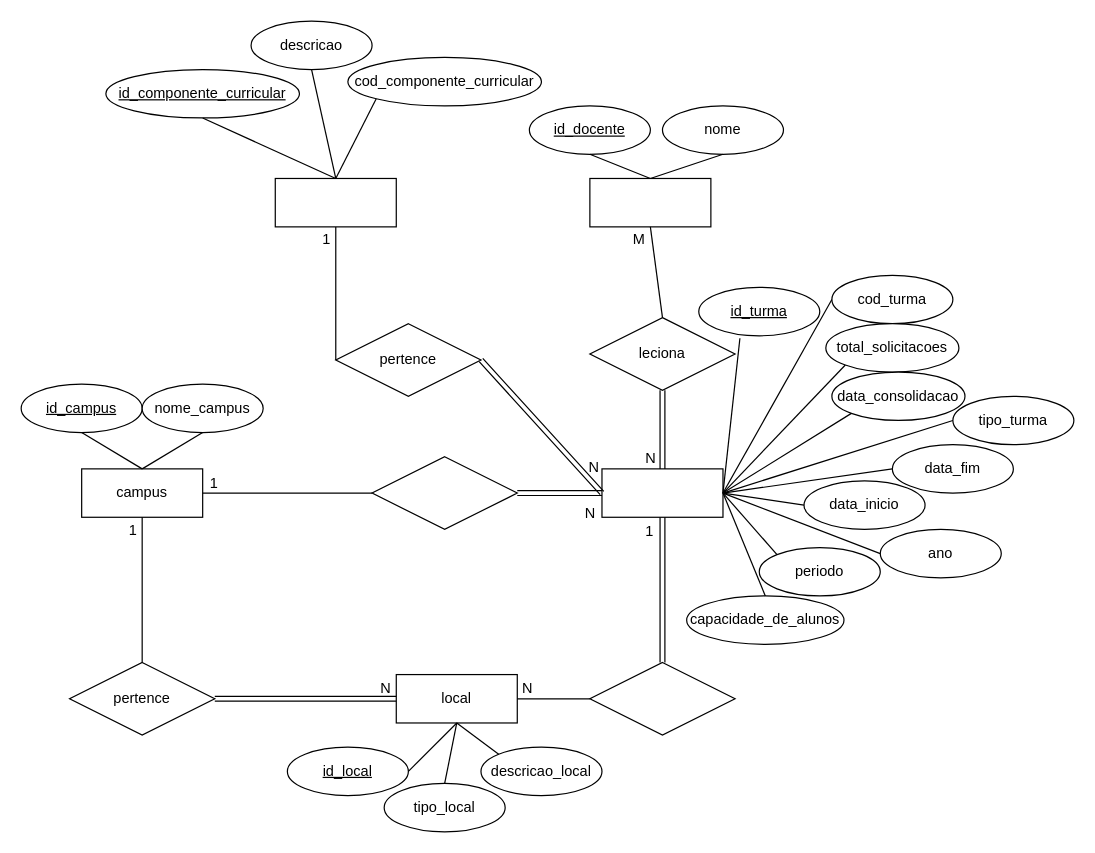
Image size: 1095x853. Some labels were removed from this diagram. The shapes that lost their labels are listed below. From the top down, each one's box as (x1, y1, x2, y2) in pixels, then its label:
(274, 177, 396, 227): componente curricular
(589, 177, 711, 227): docente
(371, 456, 517, 529): sedia
(601, 468, 723, 517): turma
(589, 661, 735, 735): localiza
